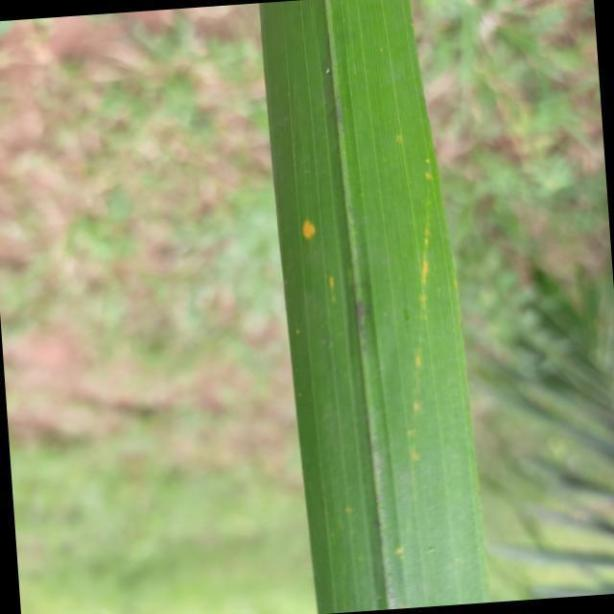Kalium: (259, 0, 486, 614)
